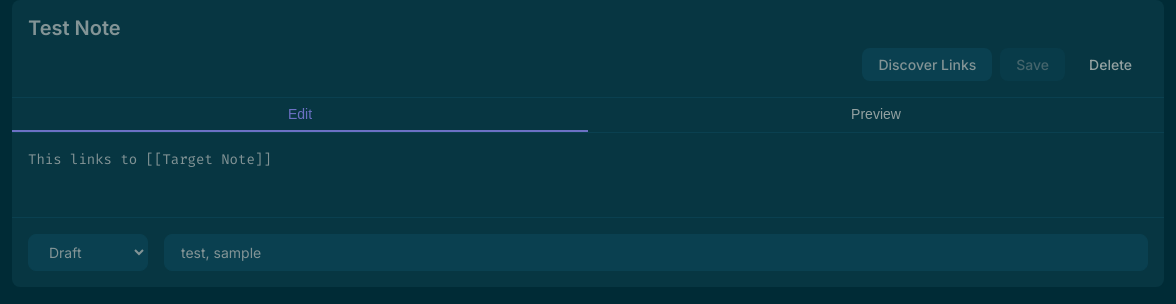
it: NoteEditor › Wikilink Rendering › renders simple wikilinks [ [Note Title]]
Click the button with class "tab-btn" showing "Preview": (876, 115) [588, 98, 1164, 132]
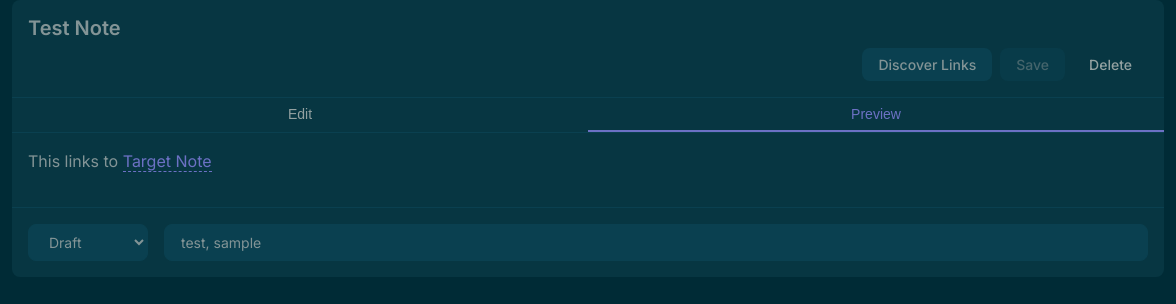
Result: the element with class "editor-preview" shows "Target Note" at [123, 151, 212, 171]
